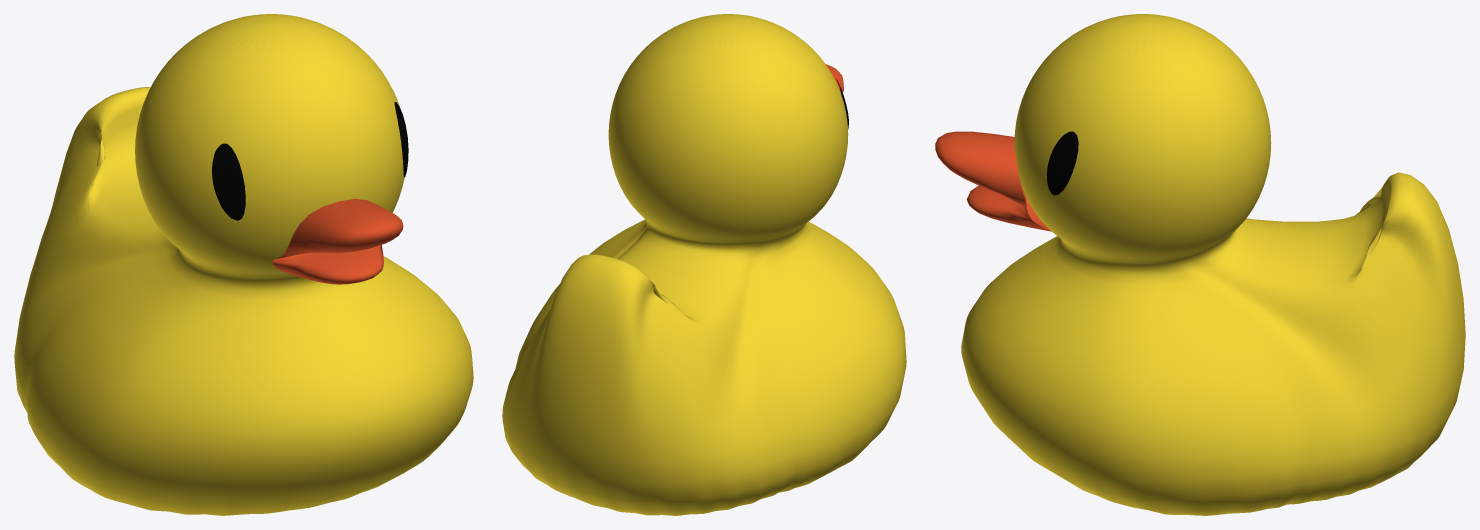
The model's file is duck.fbx.
The picture shows the model from 3 angles, left to right: view 1: azimuth 30°, elevation 25°; view 2: azimuth 150°, elevation 25°; view 3: azimuth 270°, elevation 25°; orthographic projection. The views are drawn at different scales.
Parts seen in each view (by area): view 1: Body, Beak, Eye; view 2: Body; view 3: Body, Beak, Eye.
Part boxes in pixels (bbox=[...]): Body: bbox=[14, 14, 473, 515]; Beak: bbox=[272, 198, 403, 284]; Eye: bbox=[212, 102, 408, 220]; Body: bbox=[502, 14, 906, 515]; Body: bbox=[961, 14, 1465, 515]; Beak: bbox=[935, 131, 1051, 231]; Eye: bbox=[1046, 131, 1078, 195].
Size of the model in its own units: 269 by 327 by 346.
